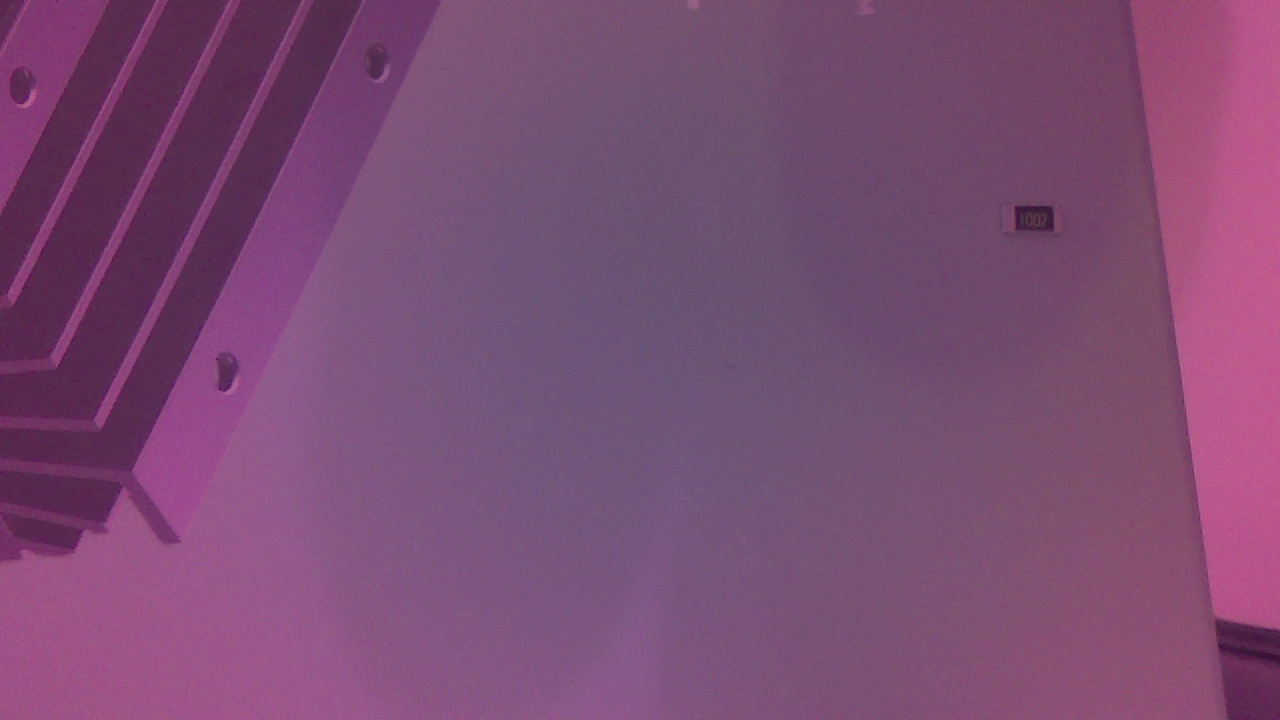Resistor: (1000, 201, 1073, 252)
